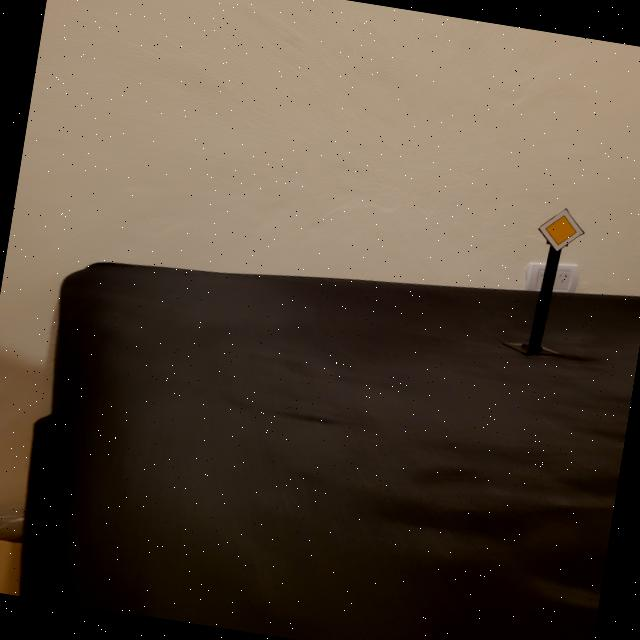priority: (534, 204, 588, 256)
